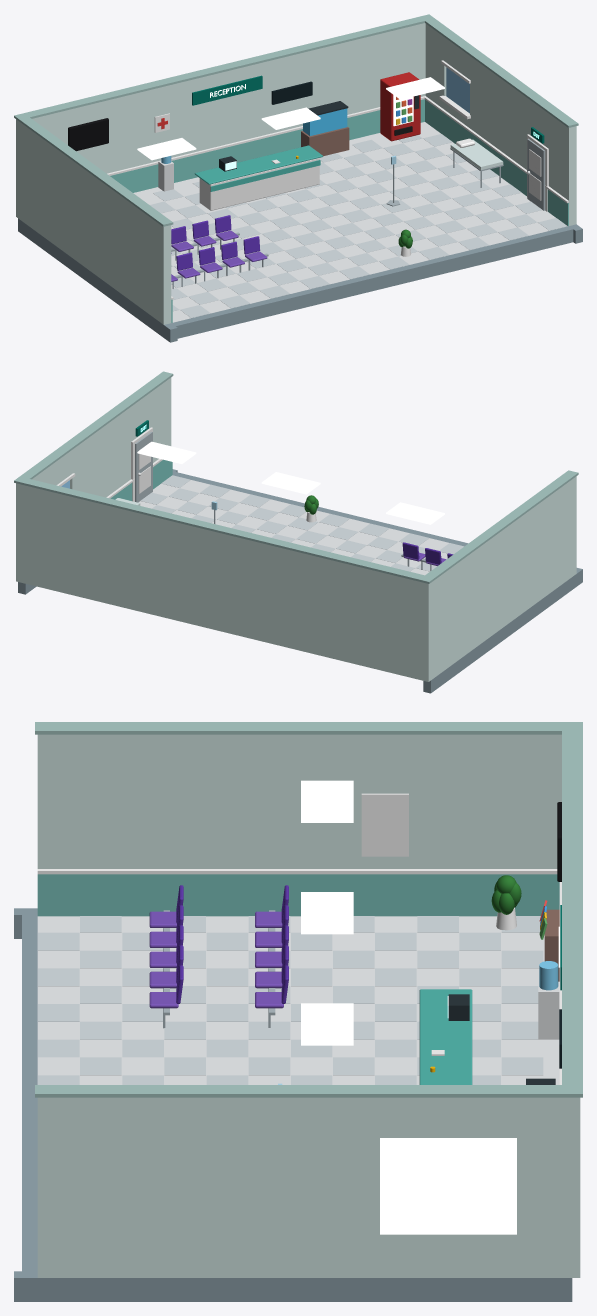
Rendered from interiors_hospital.glb.
3 views of the same model, one above another, from view 1: azimuth 30°, elevation 25°; view 2: azimuth 150°, elevation 25°; view 3: azimuth 270°, elevation 25° (orthographic). The views are drawn at different scales.
Visible parts, largest first — view 1: InteriorsHospital_static, VendMachine; view 2: InteriorsHospital_static; view 3: InteriorsHospital_static.
Part boxes in pixels (x1,y1,x2,y2): InteriorsHospital_static: [14, 14, 582, 342]; VendMachine: [380, 72, 420, 141]; InteriorsHospital_static: [14, 371, 582, 693]; InteriorsHospital_static: [14, 722, 582, 1301].
Size of the model in its own units: 17.27 by 4.38 by 10.8.
